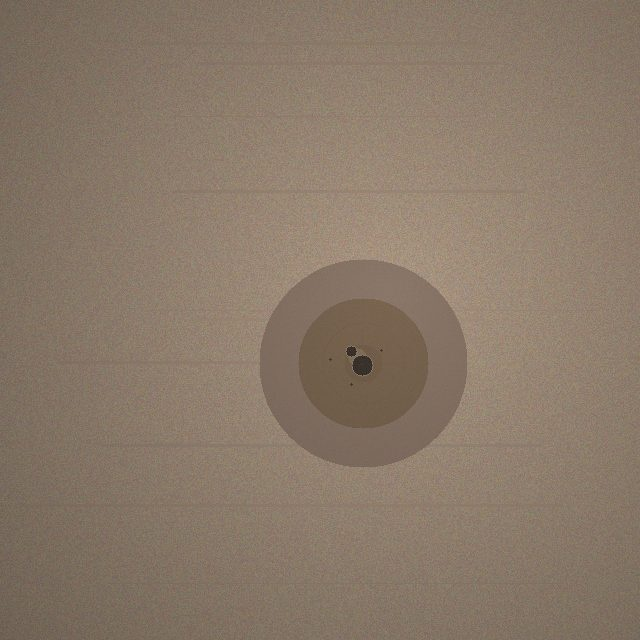shrinkage: (259, 259, 467, 467)
